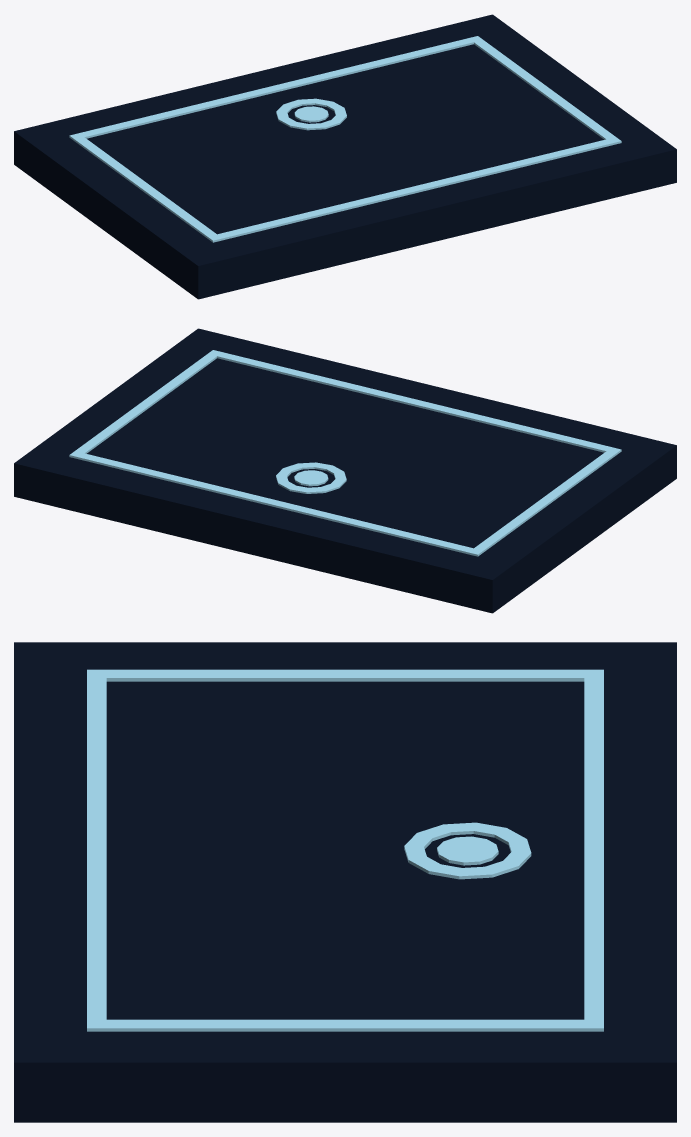
File: W_O_Playground_Finish_S_L1.fbx
3 renders of one model, top to bottom at view 1: azimuth 30°, elevation 25°; view 2: azimuth 150°, elevation 25°; view 3: azimuth 270°, elevation 25°, orthographic. The views are drawn at different scales.
Parts seen in each view (by area): view 1: W_O_Playground_Finish_S_L1; view 2: W_O_Playground_Finish_S_L1; view 3: W_O_Playground_Finish_S_L1.
Part boxes in pixels (<box>): W_O_Playground_Finish_S_L1: <box>14,14,676,299</box>; W_O_Playground_Finish_S_L1: <box>14,328,676,613</box>; W_O_Playground_Finish_S_L1: <box>14,642,676,1122</box>.
Bounding box in the file's own units: 3 × 0.212 × 2.
